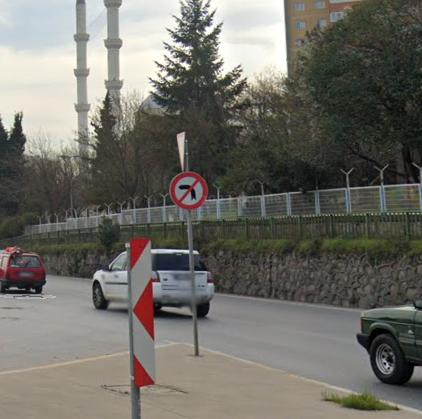leftturnsareforbidden: (172, 174, 206, 208)
